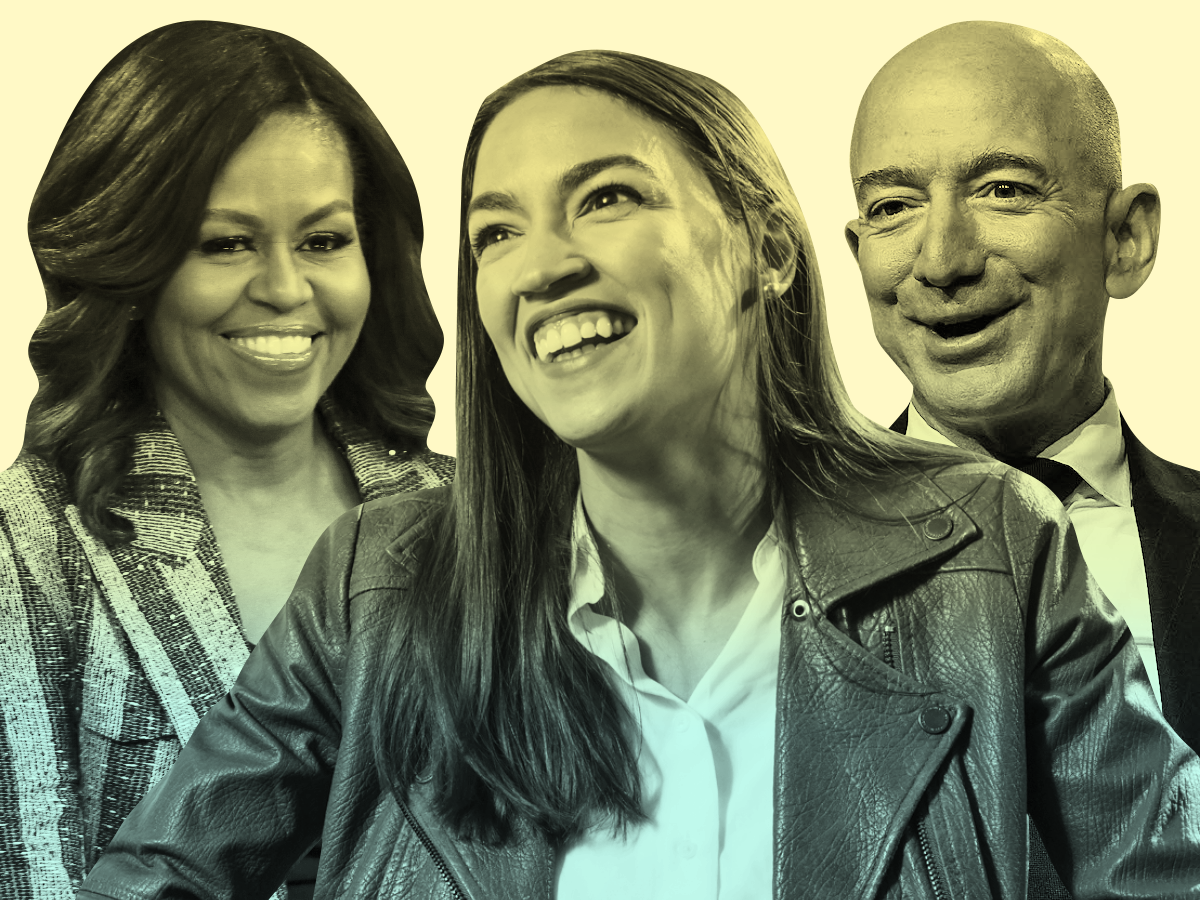no_mask: (28, 19, 405, 455), (454, 37, 809, 496), (837, 17, 1164, 433)
